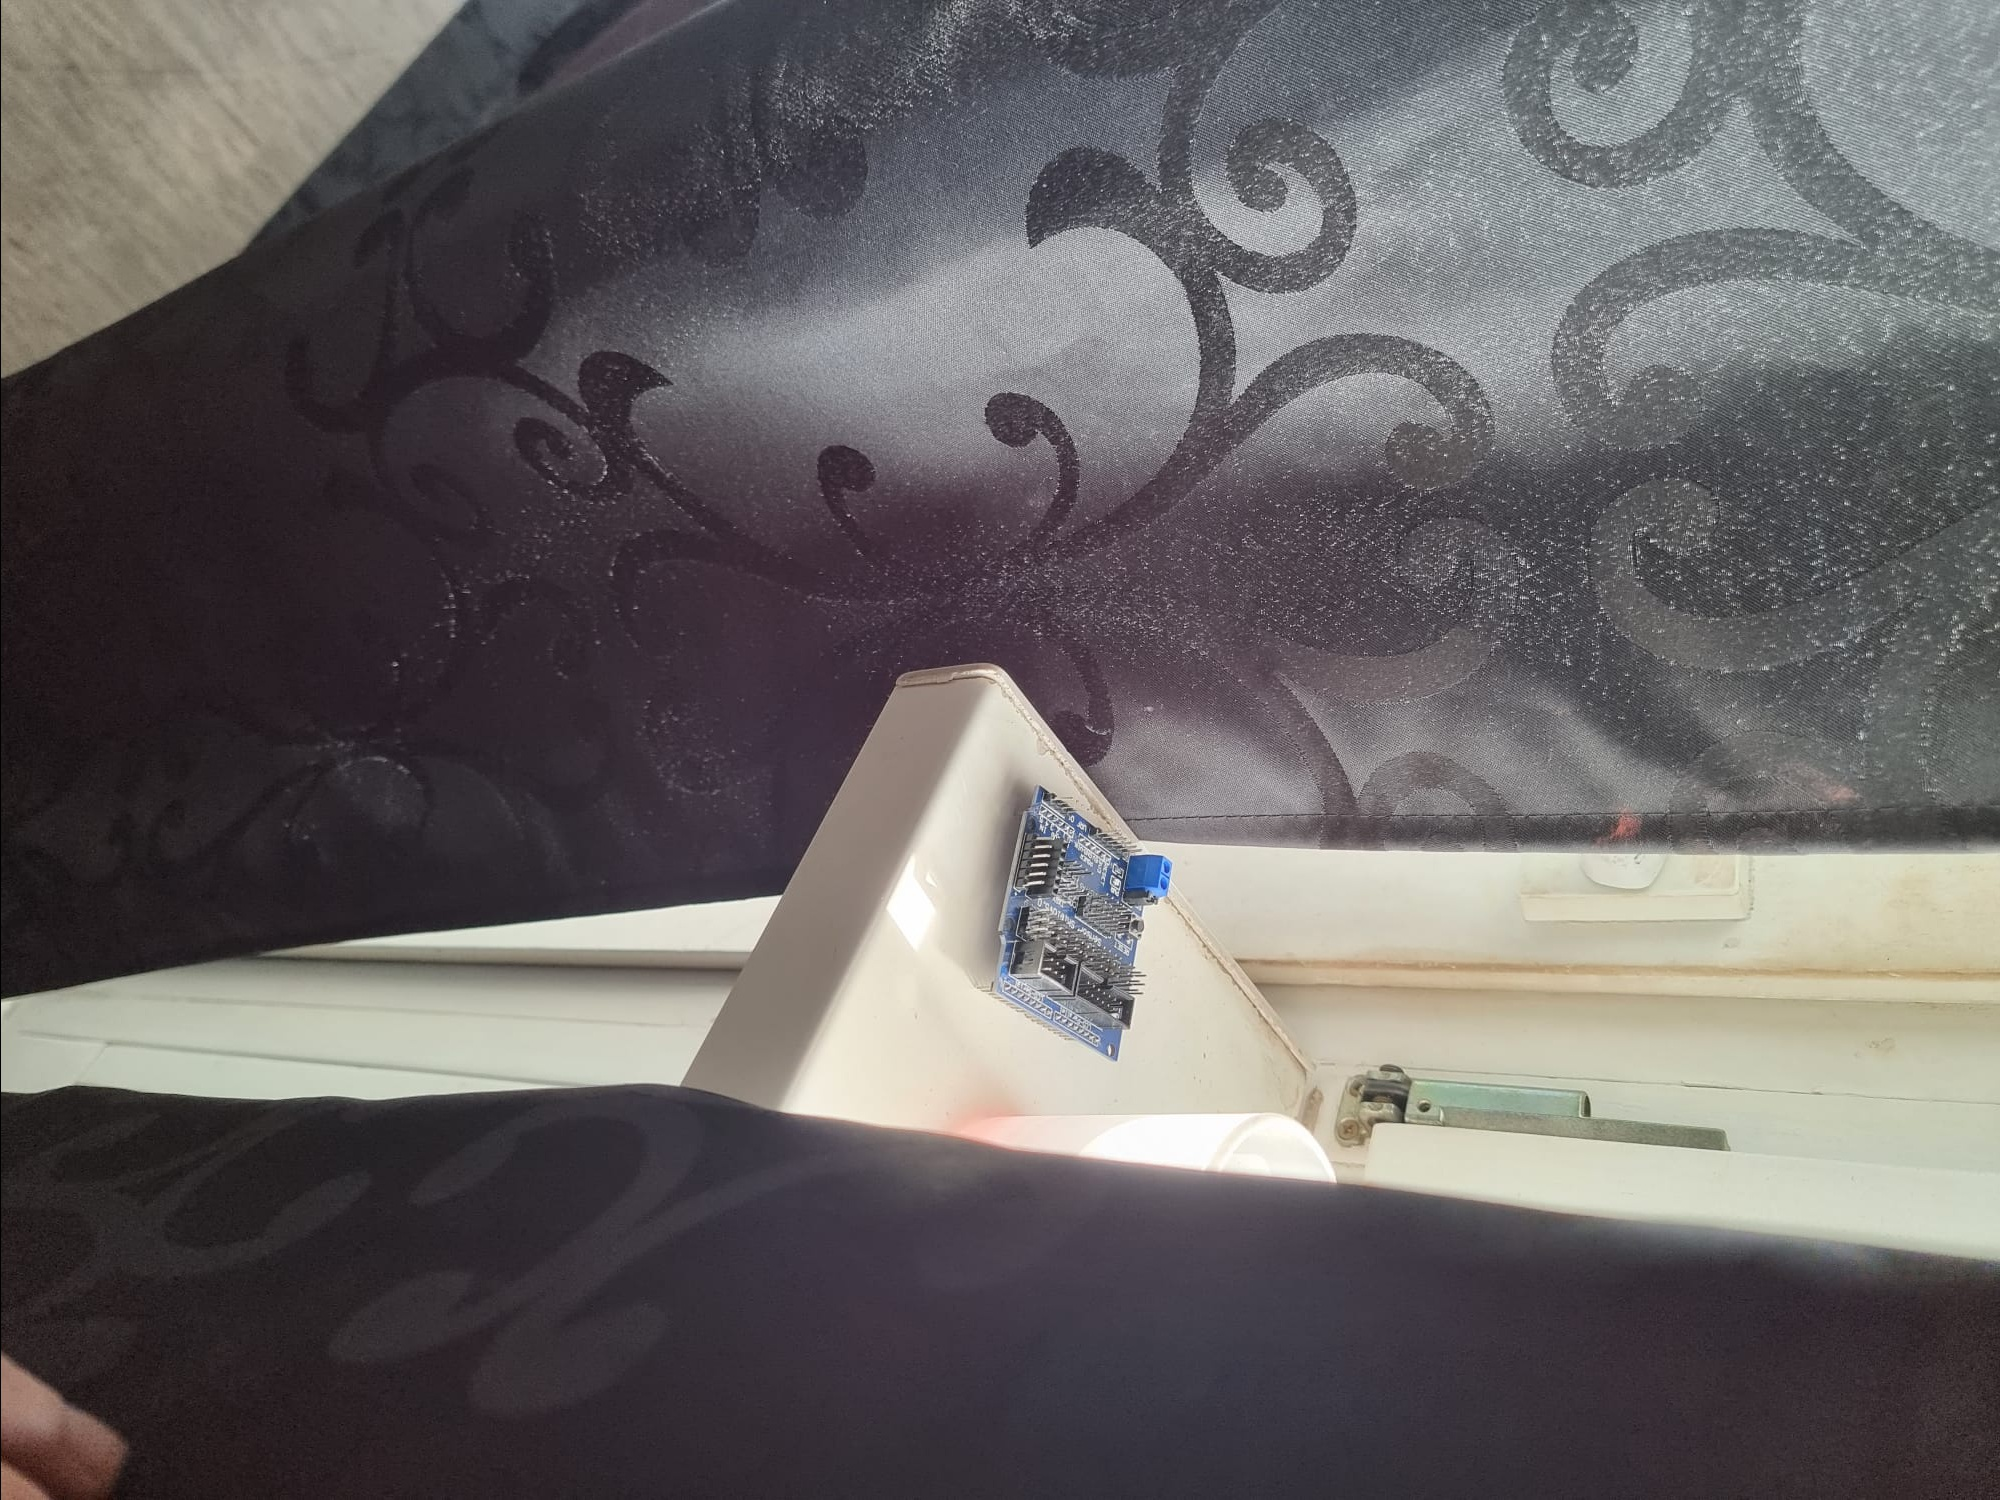5V EXPANSION: (976, 799, 1180, 1060)
